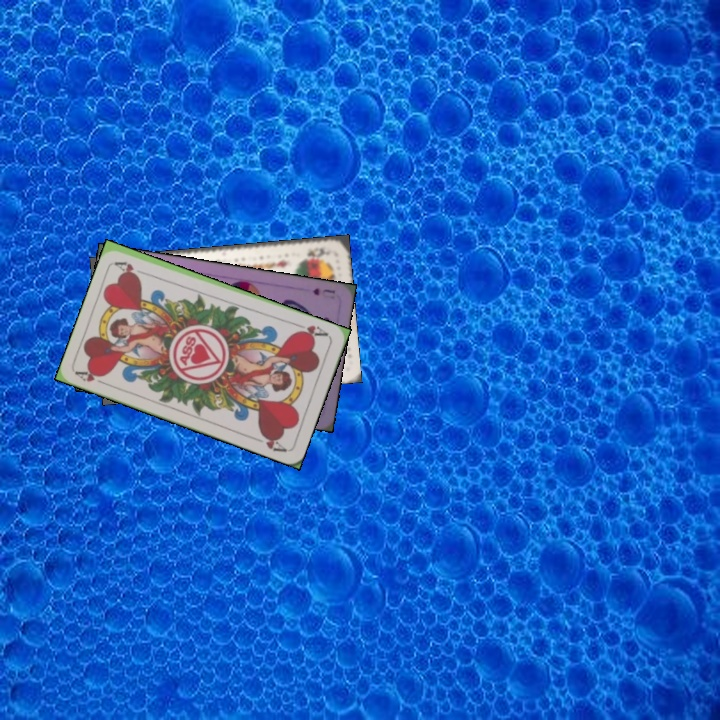HA: (72, 365, 112, 389), (292, 320, 331, 341)
SK: (303, 243, 331, 261)
SU: (308, 284, 338, 298)
